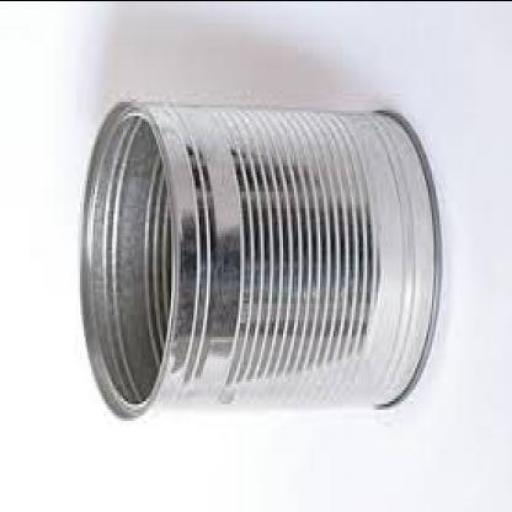metal: (78, 98, 438, 414)
